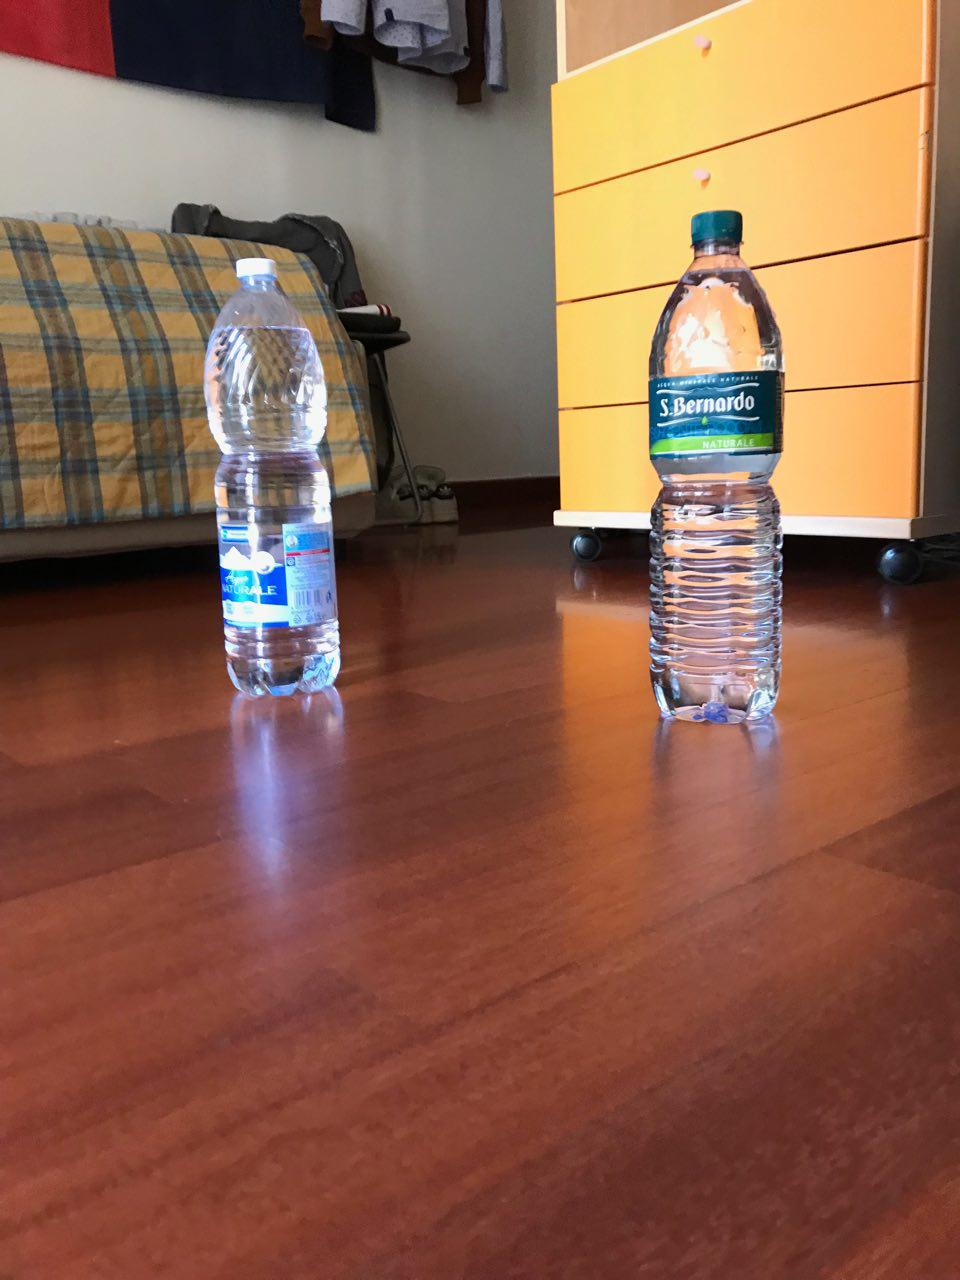san_bernardo: (647, 209, 786, 724)
